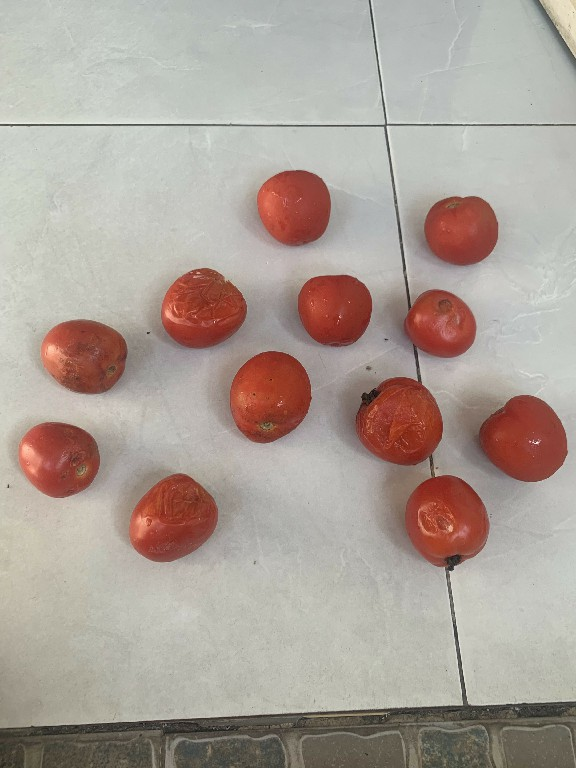NG: (400, 477, 499, 577), (355, 373, 452, 471), (140, 467, 228, 571), (13, 415, 107, 506), (153, 262, 247, 352), (39, 312, 130, 399), (404, 283, 491, 362)
OK: (475, 392, 576, 489), (222, 348, 314, 452), (253, 161, 344, 252), (295, 266, 381, 347), (421, 192, 501, 274)
